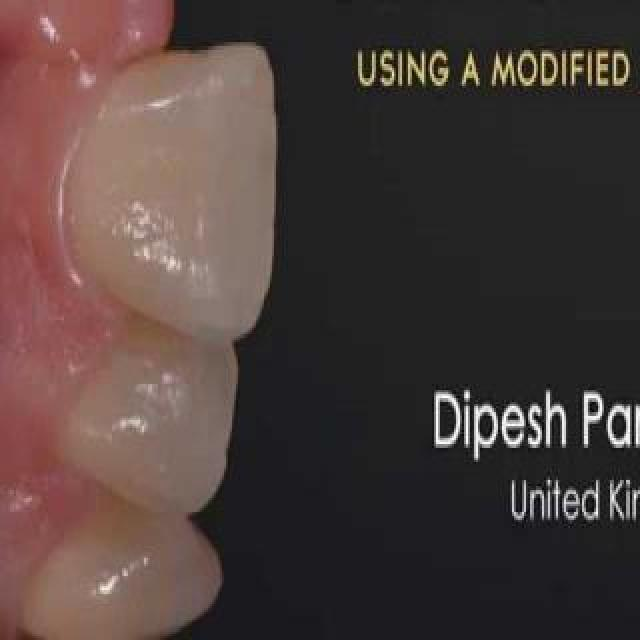spacing: (104, 0, 284, 120)
